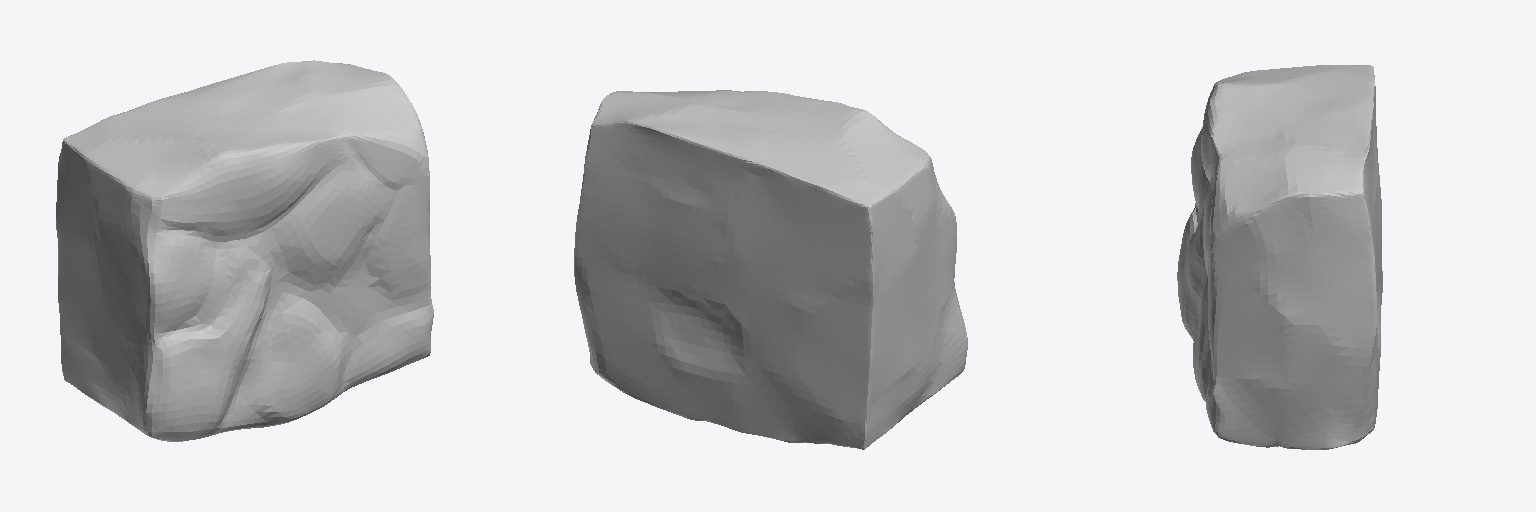
Rendered from lowPoly.obj.
3 renders of one model, left to right at view 1: azimuth 30°, elevation 25°; view 2: azimuth 150°, elevation 25°; view 3: azimuth 270°, elevation 25°, orthographic.
Visible parts, largest first — view 1: Group62480; view 2: Group62480; view 3: Group62480.
Boxes of the visible parts, box(x1,y1,x2,y2) form: Group62480: box(56, 60, 433, 441); Group62480: box(574, 90, 967, 449); Group62480: box(1177, 65, 1382, 449).
Bounding box in the file's own units: 755 × 667 × 433.